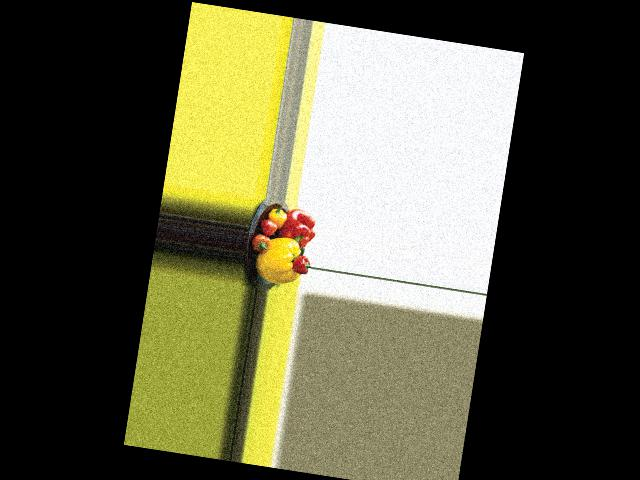bell_pepper: (267, 205, 288, 227)
